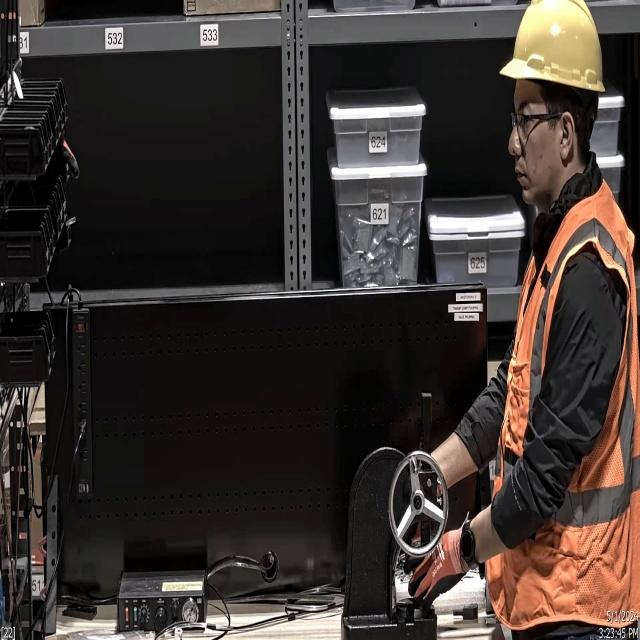gloves: (394, 523, 468, 624)
